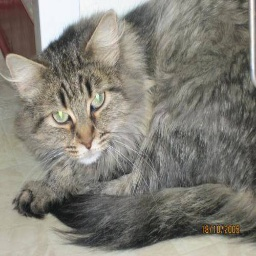cat: (7, 6, 256, 243)
